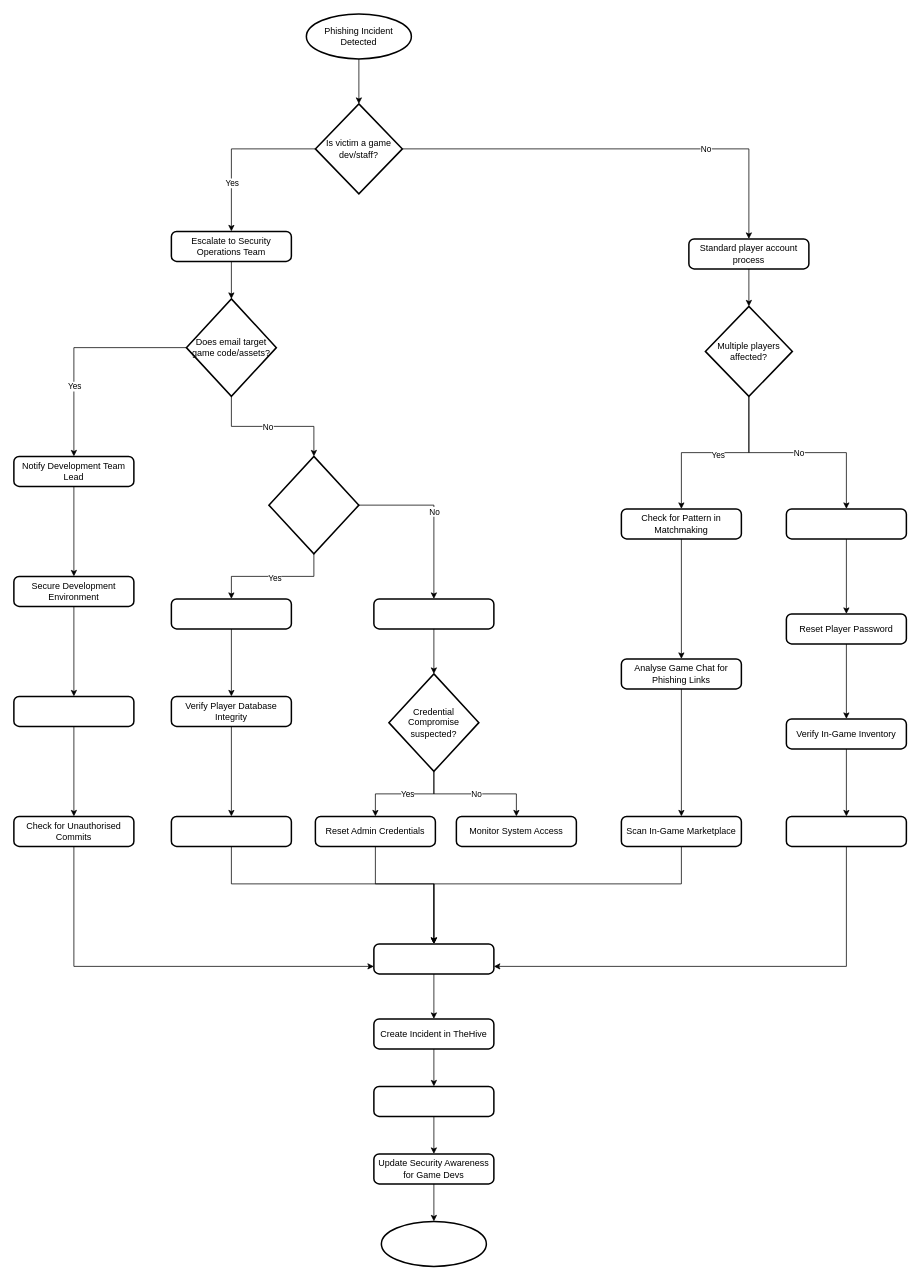
The diagram is 920 pixels wide and 1280 high, and some of its shapes have lost their labels. Here are the shapes that lost their labels. From the top down, the centre of each, then its label:
At (313,504): "Contains social engineering for player data?".
At (846,523): "Individual Player Account Security".
At (231,613): "Alert Data Protection Officer".
At (433,613): "Standard Security Process".
At (73,711): "Verify Source Code Repository Access".
At (231,831): "Check for Data Export Attempts".
At (846,831): "Check for Unauthorised Access".
At (433,958): "Update MISP with Game-Specific IOCs".
At (433,1101): "Correlate with Beta Testing Incidents".
At (433,1243): "Close Incident".
